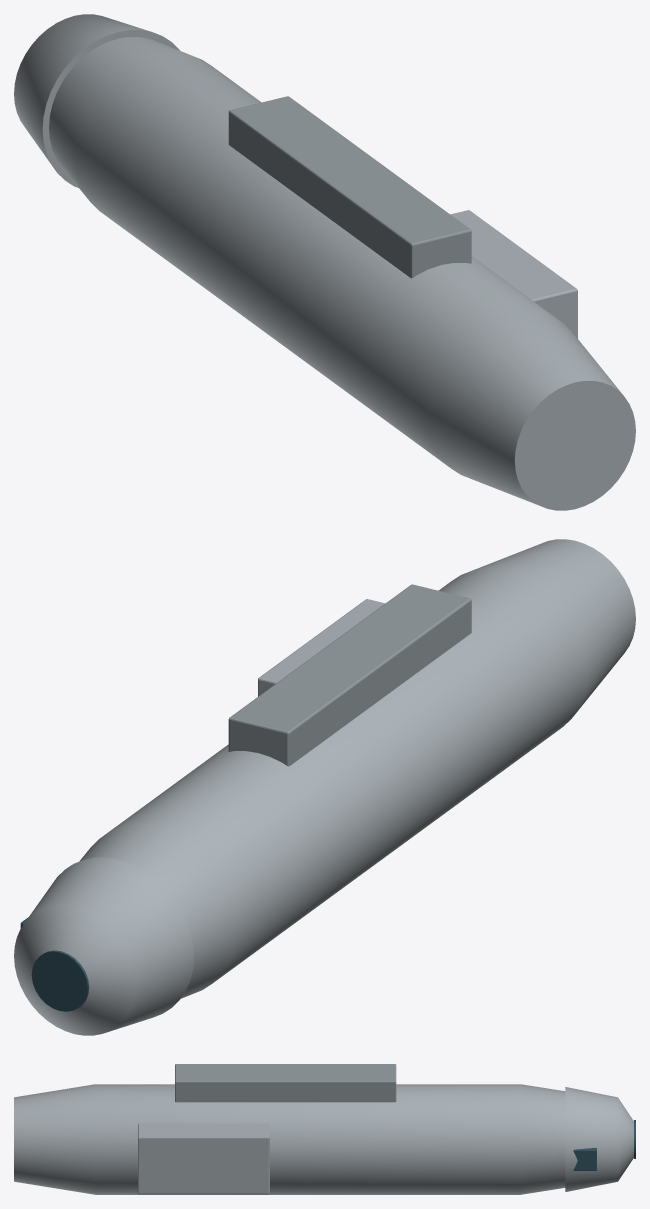
The model's file is tgp.glb.
The picture shows the model from 3 angles, top to bottom: view 1: azimuth 30°, elevation 25°; view 2: azimuth 150°, elevation 25°; view 3: azimuth 270°, elevation 25°; orthographic projection. The views are drawn at different scales.
Parts seen in each view (by area): view 1: static.Airframe grey, static.Dull metal; view 2: static.Airframe grey, static.Dull metal, static.Canopy glass; view 3: static.Airframe grey, static.Dull metal, static.Canopy glass.
Part boxes in pixels (x1,y1,x2,y2): static.Airframe grey: (14, 14, 635, 510); static.Dull metal: (228, 96, 471, 278); static.Airframe grey: (14, 539, 635, 1035); static.Dull metal: (228, 584, 471, 766); static.Canopy glass: (20, 917, 89, 1011); static.Airframe grey: (14, 1084, 633, 1194); static.Dull metal: (175, 1064, 396, 1102); static.Canopy glass: (573, 1120, 635, 1170).
Bounding box in the file's own units: 0.49 × 0.49 × 2.36.
